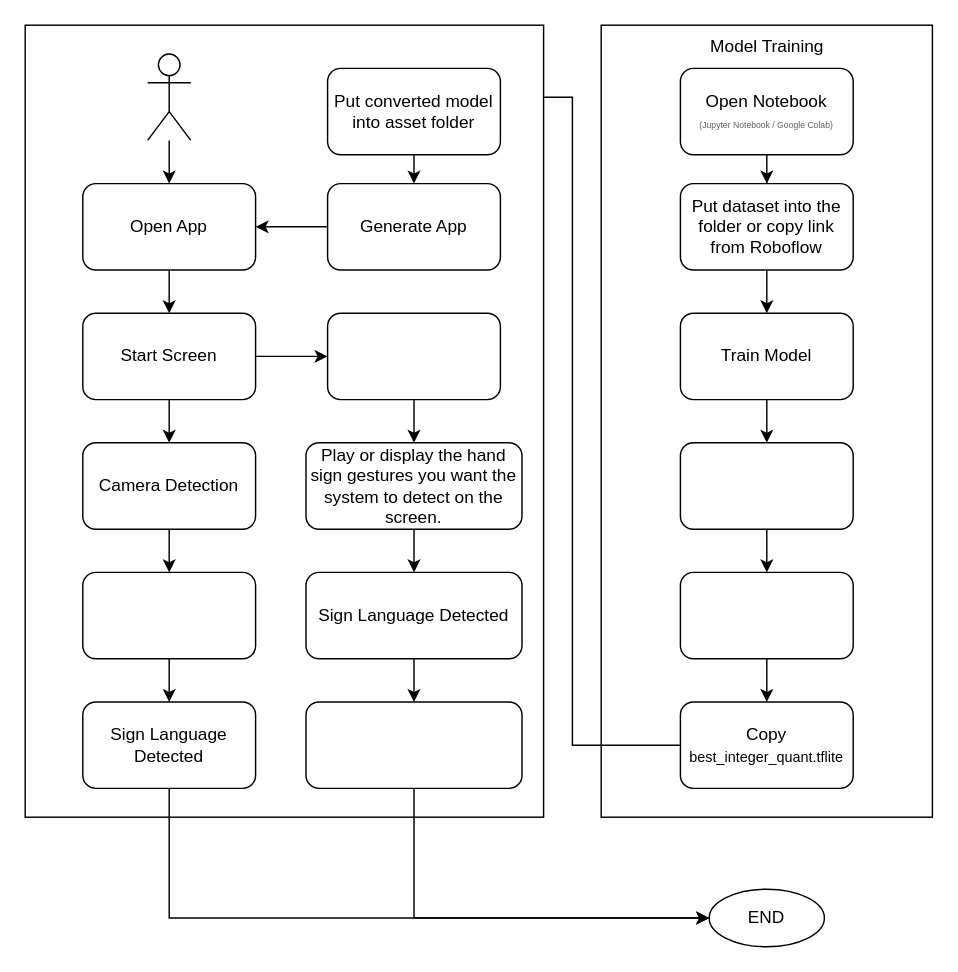
Image size: 958x972. Some labels were removed from this diagram. Each missing label, with the box of its shape:
Align the camera with the hand signs: (81, 571, 256, 659)
Convert best.pt to .tflite: (679, 571, 853, 659)
Screen Detection: (326, 312, 500, 400)
Stop Overlay: (305, 701, 522, 788)
User: (146, 53, 191, 140)
Validate Model: (679, 441, 853, 529)
